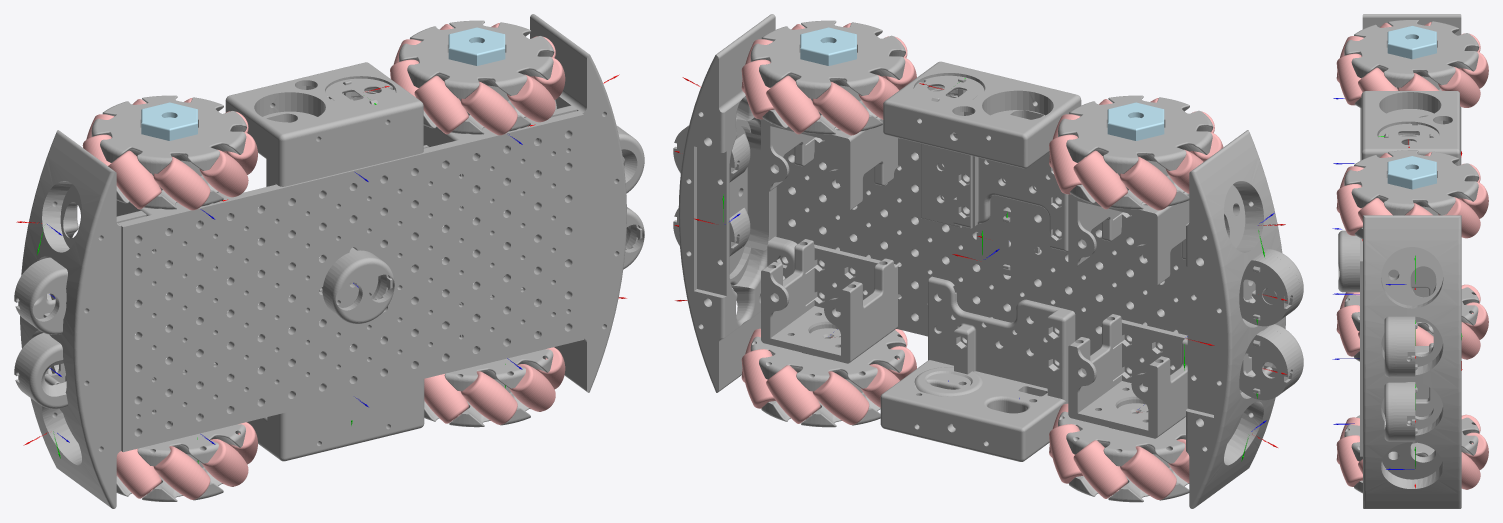
File: roboteil_m.glb
The picture shows the model from 3 angles, left to right: view 1: azimuth 30°, elevation 25°; view 2: azimuth 150°, elevation 25°; view 3: azimuth 270°, elevation 25°; orthographic projection. The views are drawn at different scales.
Visible parts, largest first — view 1: CenterPlate Alu, sbFront (×2), rimm-outerr (×4), sb_center_cont, sbCenter, Top (×4), Roller_copy5 (×4), Roller_copy6 (×4), rimm-inner (×4), Base (×4), Wheel-Hub-Cup (×2), Roller_copy4 (×2) (+2 smaller); view 2: sbFront (×2), HolderBase (×4), CenterPlate Alu, sbCenter, sb_center_cont, rimm-outerr (×4), Base (×6), rimm-inner (×4), Roller_copy1 (×4), Roller_copy2 (×4), Roller_copy9 (×4), Wheel-Hub-Cup (×2) (+3 smaller); view 3: sbFront (×2), rimm-outerr (×2), sb_center_cont, Base (×4), Wheel-Hub-Cup (×2), Top (×3), rimm-inner (×2), Roller_copy1 (×4), Roller_copy6 (×2), Roller_copy5 (×2), Roller_copy9 (×2), HolderBase (×2) (+5 smaller).
Boxes of the visible parts, left/top/right/bottom form: CenterPlate Alu: left=118, top=111, right=583, bottom=452; sbFront (×2): left=20, top=14, right=626, bottom=508; rimm-outerr (×4): left=91, top=20, right=554, bottom=501; sb_center_cont: left=225, top=62, right=428, bottom=264; sbCenter: left=247, top=330, right=424, bottom=461; Top (×4): left=25, top=130, right=644, bottom=408; Roller_copy5 (×4): left=153, top=81, right=555, bottom=486; Roller_copy6 (×4): left=153, top=74, right=555, bottom=499; rimm-inner (×4): left=116, top=90, right=553, bottom=466; Base (×4): left=14, top=78, right=395, bottom=399; Wheel-Hub-Cup (×2): left=141, top=27, right=505, bottom=140; Roller_copy4 (×2): left=108, top=75, right=468, bottom=209; sbFront (×2): left=678, top=14, right=1285, bottom=508; HolderBase (×4): left=761, top=117, right=1189, bottom=438; CenterPlate Alu: left=776, top=138, right=1187, bottom=376; sbCenter: left=880, top=276, right=1075, bottom=461; sb_center_cont: left=883, top=61, right=1081, bottom=251; rimm-outerr (×4): left=750, top=20, right=1213, bottom=502; Base (×6): left=673, top=75, right=1301, bottom=400; rimm-inner (×4): left=750, top=88, right=1189, bottom=466; Roller_copy1 (×4): left=766, top=75, right=1127, bottom=498; Roller_copy2 (×4): left=741, top=82, right=1176, bottom=483; Roller_copy9 (×4): left=741, top=59, right=1176, bottom=499; Wheel-Hub-Cup (×2): left=800, top=27, right=1164, bottom=140; sbFront (×2): left=1362, top=14, right=1461, bottom=508; rimm-outerr (×2): left=1344, top=20, right=1479, bottom=215; sb_center_cont: left=1361, top=91, right=1459, bottom=165; Base (×4): left=1344, top=123, right=1439, bottom=441; Wheel-Hub-Cup (×2): left=1387, top=25, right=1436, bottom=189; Top (×3): left=1338, top=230, right=1417, bottom=441; rimm-inner (×2): left=1344, top=287, right=1479, bottom=461; Roller_copy1 (×4): left=1458, top=51, right=1488, bottom=470; Roller_copy6 (×2): left=1336, top=53, right=1362, bottom=235; Roller_copy5 (×2): left=1336, top=305, right=1362, bottom=486; Roller_copy9 (×2): left=1438, top=66, right=1480, bottom=238; HolderBase (×2): left=1388, top=266, right=1436, bottom=416.
Bounding box in the file's own units: 400 × 228 × 102.
